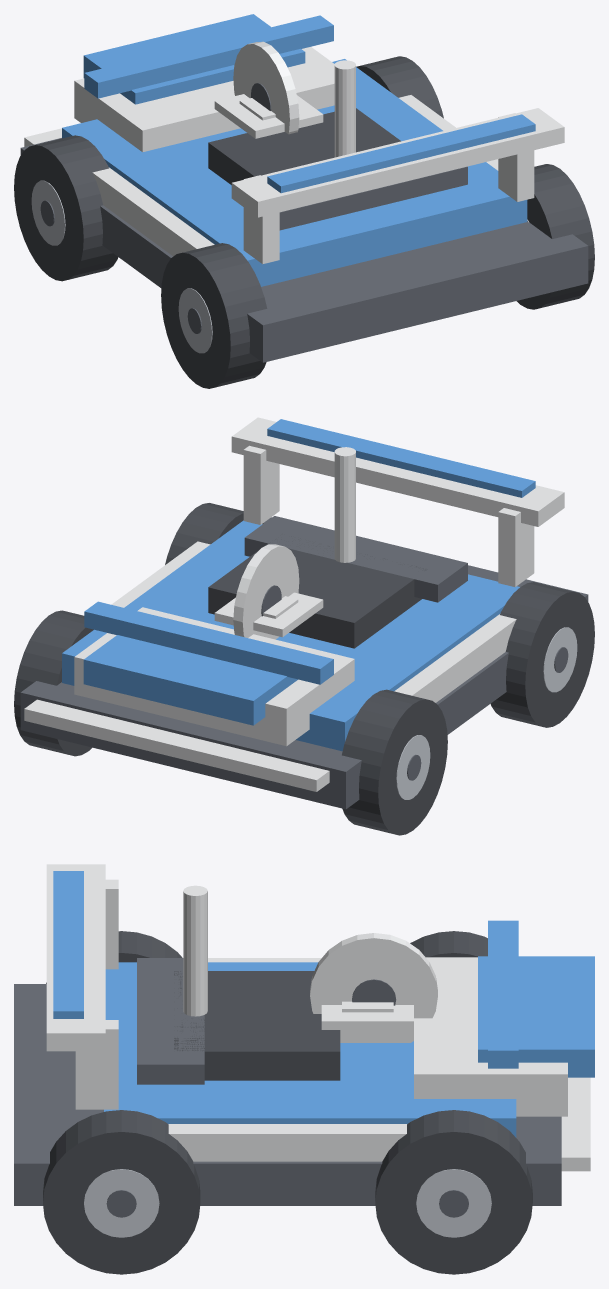
The model's file is speedster.glb.
The picture shows the model from 3 angles, top to bottom: view 1: azimuth 30°, elevation 25°; view 2: azimuth 150°, elevation 25°; view 3: azimuth 270°, elevation 25°; orthographic projection. The views are drawn at different scales.
Visible parts, largest first — view 1: part_0, part_1, part_19, part_16, part_2, part_11, part_31, part_4, part_32, part_3, part_25, part_9 (+10 smaller); view 2: part_1, part_0, part_3, part_16, part_19, part_4, part_11, part_2, part_28, part_31, part_5, part_32 (+11 smaller); view 3: part_0, part_1, part_25, part_22, part_4, part_2, part_3, part_10, part_8, part_5, part_11, part_31 (+15 smaller).
Boxes of the visible parts, <box> form: part_0: <box>20,138,588,362</box>; part_1: <box>62,59,527,286</box>; part_19: <box>161,243,267,388</box>; part_16: <box>14,135,118,281</box>; part_2: <box>74,47,334,152</box>; part_11: <box>231,108,564,217</box>; part_31: <box>84,15,333,98</box>; part_4: <box>208,108,400,184</box>; part_32: <box>267,114,535,193</box>; part_3: <box>83,14,305,104</box>; part_25: <box>516,164,594,309</box>; part_9: <box>92,167,214,256</box>; part_1: <box>62,520,519,751</box>; part_0: <box>20,517,588,809</box>; part_3: <box>83,635,297,725</box>; part_16: <box>342,689,447,835</box>; part_19: <box>490,582,594,727</box>; part_4: <box>208,536,427,648</box>; part_11: <box>231,417,564,526</box>; part_2: <box>74,607,354,746</box>; part_28: <box>24,699,329,791</box>; part_31: <box>84,601,333,684</box>; part_5: <box>244,516,467,602</box>; part_32: <box>267,419,535,497</box>; part_0: <box>14,984,561,1205</box>; part_1: <box>104,962,516,1137</box>; part_25: <box>43,1110,200,1274</box>; part_22: <box>375,1110,532,1274</box>; part_4: <box>174,971,340,1080</box>; part_2: <box>414,957,567,1116</box>; part_3: <box>478,956,594,1077</box>; part_10: <box>168,1124,406,1161</box>; part_8: <box>310,933,437,1042</box>; part_5: <box>137,958,204,1084</box>; part_11: <box>46,864,105,1051</box>; part_31: <box>488,920,518,1068</box>.
Size of the model in its own units: 3.89 by 2.54 by 4.72.
